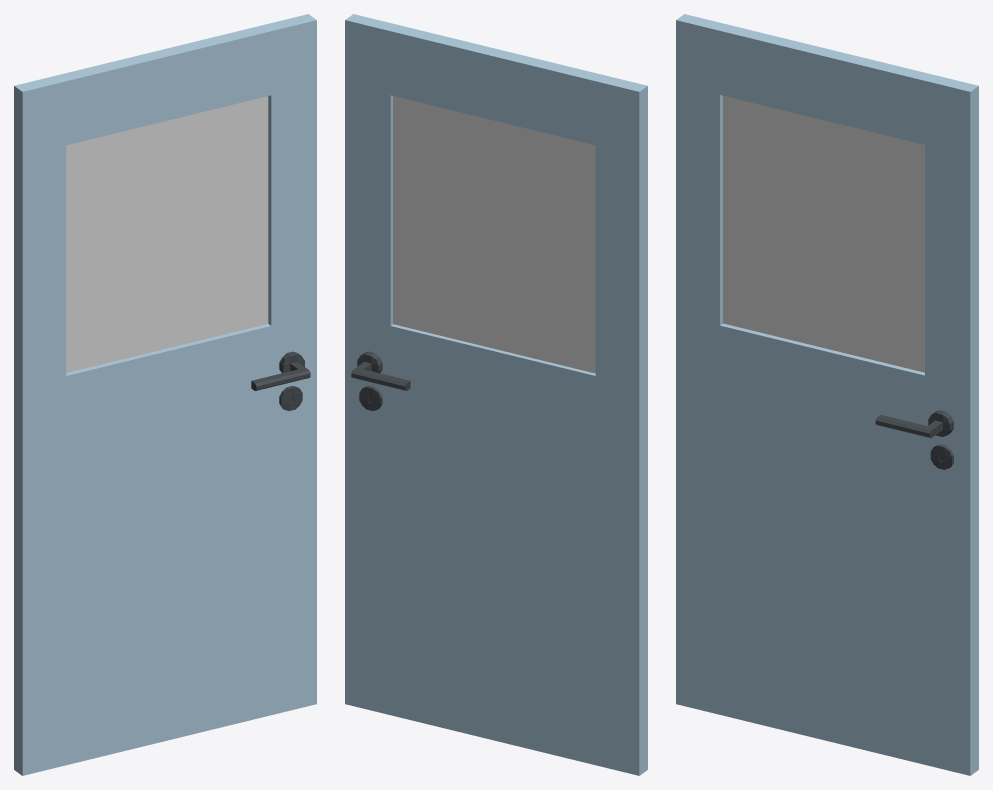
The model's file is Door.fbx.
3 views of the same model, side by side, from view 1: azimuth 30°, elevation 25°; view 2: azimuth 150°, elevation 25°; view 3: azimuth 330°, elevation 25° (orthographic).
Parts seen in each view (by area): view 1: Cube.003; view 2: Cube.003; view 3: Cube.003.
Boxes of the visible parts, x1,y1,x2,y2 form: Cube.003: (14, 14, 316, 775); Cube.003: (345, 14, 647, 775); Cube.003: (676, 14, 978, 775).
Bounding box in the file's own units: 102 × 226 × 25.73.
